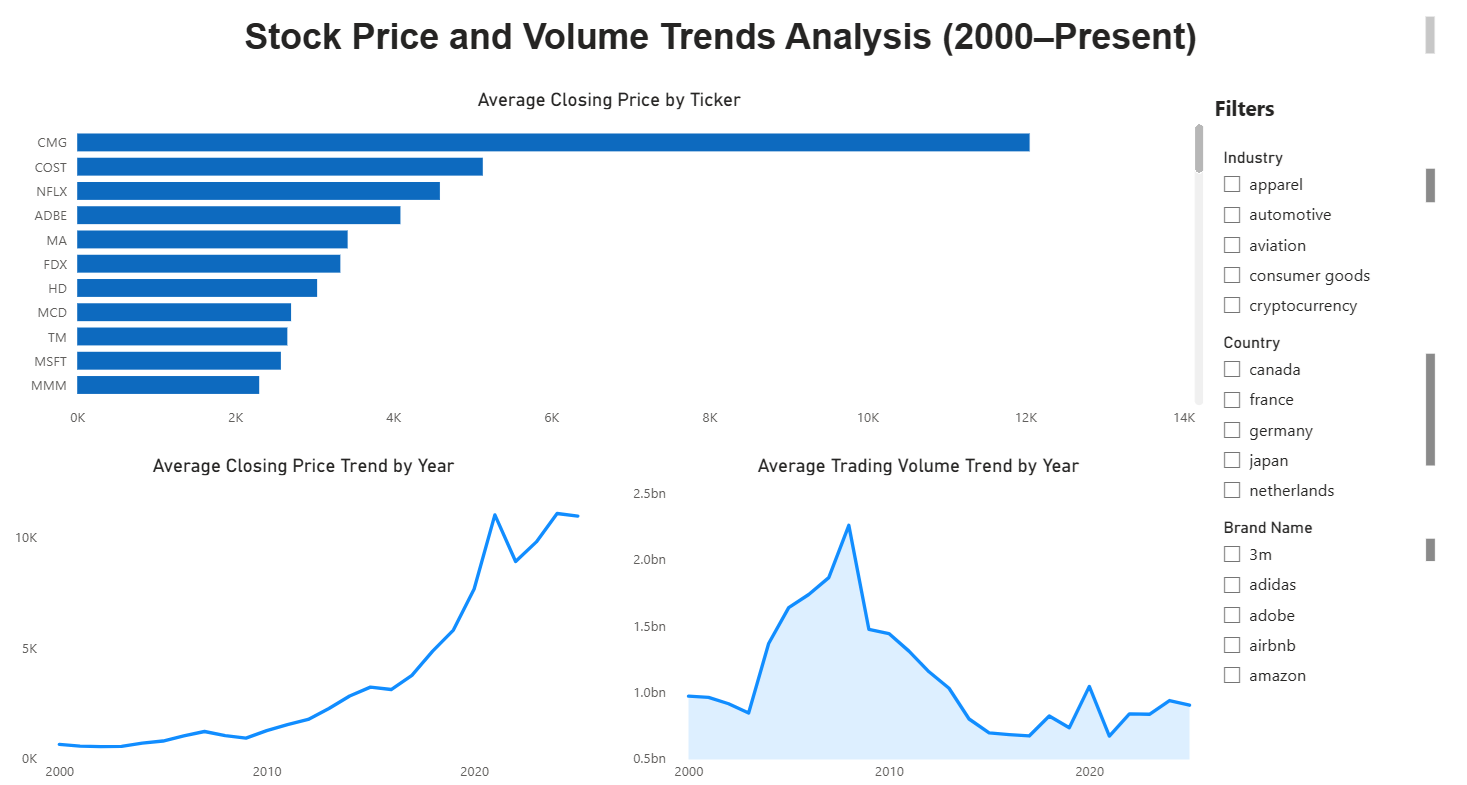

What the dashboard file says about the page in this screenshot:
{"tool":"powerbi","page":{"name":"stock_price_volume","canvas":[1280,720],"ordinal":0},"visuals":[{"type":"lineChart","title":"Average Closing Price Trend by Year","fields":{"Category":["FACT_STOCK_PRICE_GOLD.TRADE_YEAR"],"Y":["Sum(FACT_STOCK_PRICE_GOLD.AVG_CLOSE_PRICE)"]},"box":[0,417.8,526.8,302.2],"z":0},{"type":"barChart","title":"Average Closing Price by Ticker","fields":{"Category":["FACT_STOCK_PRICE_GOLD.TICKER"],"Y":["Sum(FACT_STOCK_PRICE_GOLD.AVG_CLOSE_PRICE)"]},"box":[0,90,1073.5,312.7],"z":1000},{"type":"lineChart","title":"Average Trading Volume Trend by Year","fields":{"Category":["FACT_STOCK_PRICE_GOLD.TRADE_YEAR"],"Y":["Sum(FACT_STOCK_PRICE_GOLD.AVG_VOLUME)"]},"box":[552.4,417.8,521.1,302.2],"z":2000},{"type":"slicer","fields":{"Values":["DIM_STOCK.INDUSTRY_TAG"]},"box":[1073.5,139.3,206.5,165.8],"z":3000},{"type":"textbox","box":[0,21.8,1280,45.5],"z":4000},{"type":"textbox","box":[1073.5,90,206.5,36],"z":5000},{"type":"slicer","fields":{"Values":["DIM_STOCK.COUNTRY"]},"box":[1073.5,305.1,206.5,165.8],"z":6000},{"type":"slicer","fields":{"Values":["DIM_STOCK.BRAND_NAME"]},"box":[1073.5,470.9,206.5,166.8],"z":7000}]}

Visuals, with their boxes on the page's 1280x720 design canvas (x1, y1, x2, y2). These are canvas units, not pixel positions in the 1467x785 screenshot, which may show the page scaled, cropped or inside an application window:
"Average Closing Price Trend by Year" lineChart: (0,418,527,720)
"Average Closing Price by Ticker" barChart: (0,90,1074,403)
"Average Trading Volume Trend by Year" lineChart: (552,418,1074,720)
slicer - DIM_STOCK.INDUSTRY_TAG: (1074,139,1280,305)
textbox: (0,22,1280,67)
textbox: (1074,90,1280,126)
slicer - DIM_STOCK.COUNTRY: (1074,305,1280,471)
slicer - DIM_STOCK.BRAND_NAME: (1074,471,1280,638)
